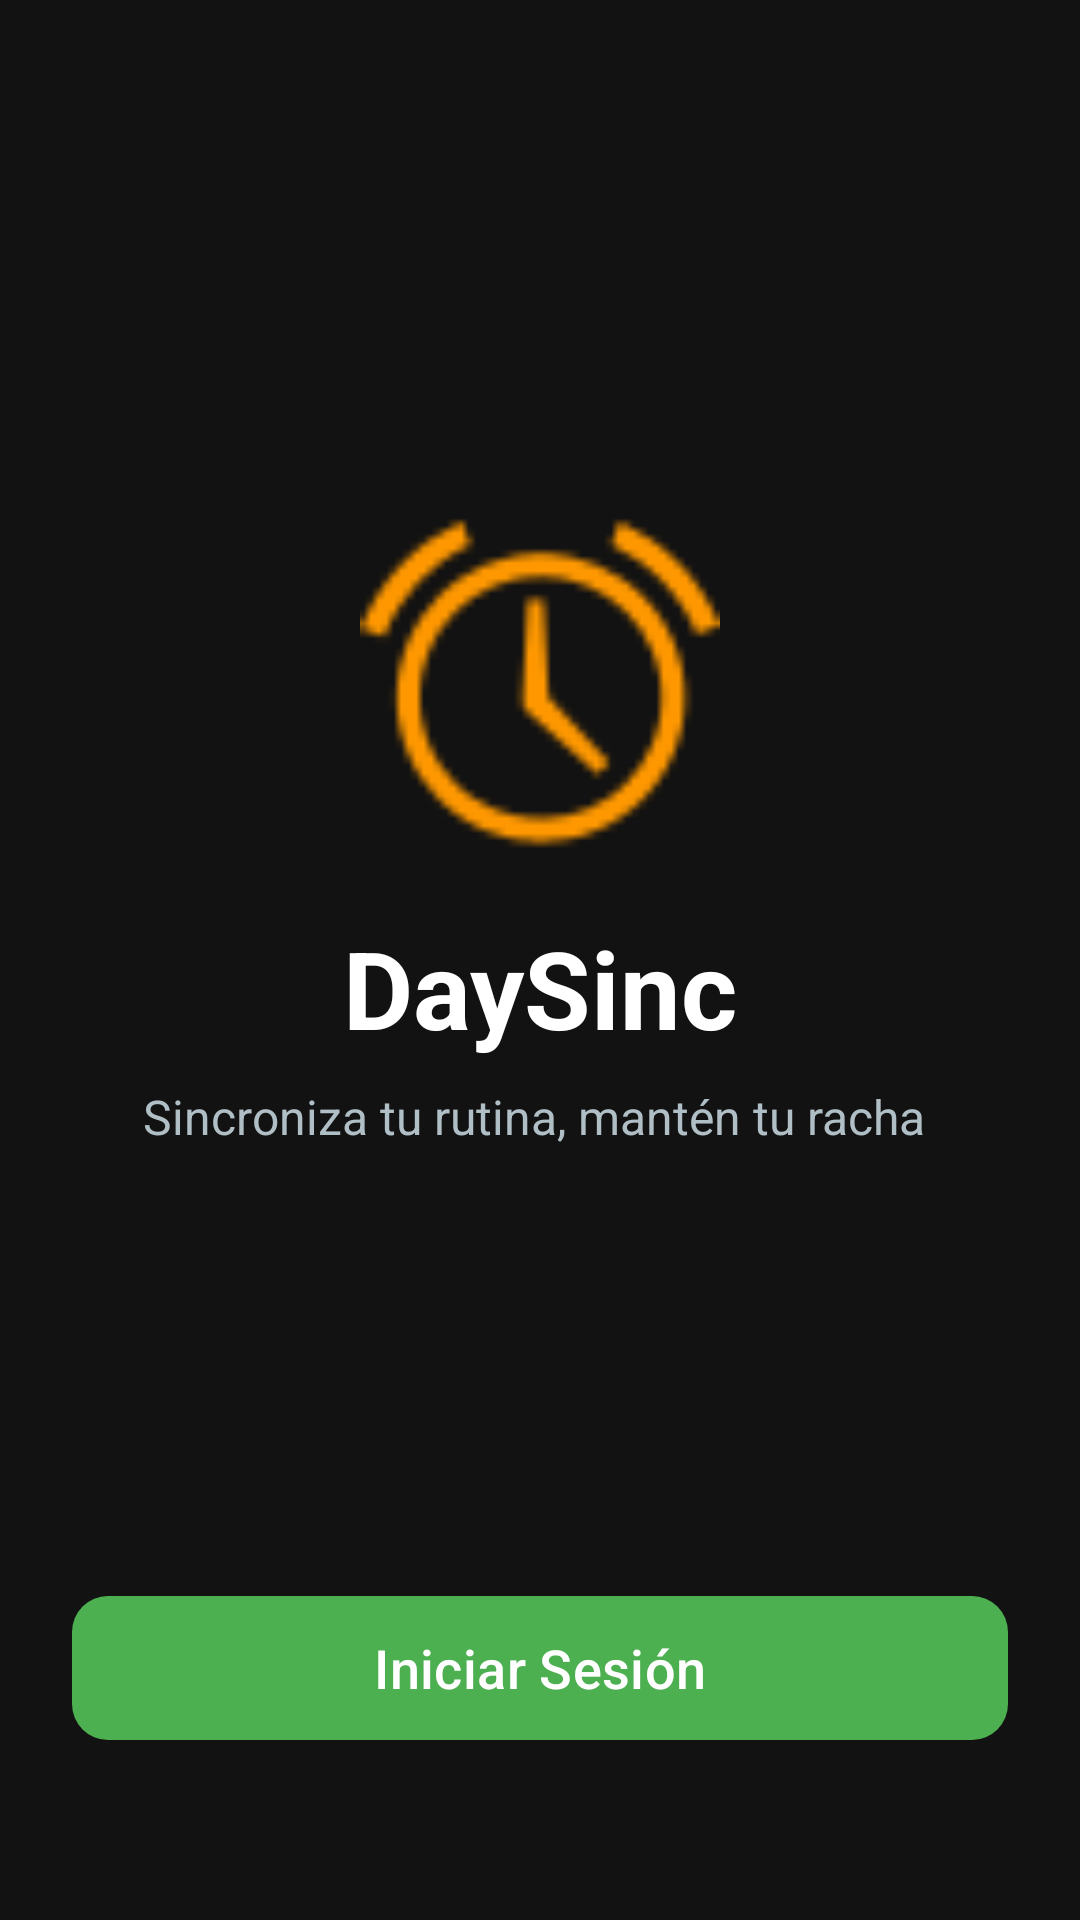

Locate icon controls on the screen. Image size 1080x1920, boxes as bbox=(x1, y1, x2, y2).
lock idle alarm: bbox=(360, 519, 720, 847)
